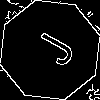J: (25, 25, 77, 69)
